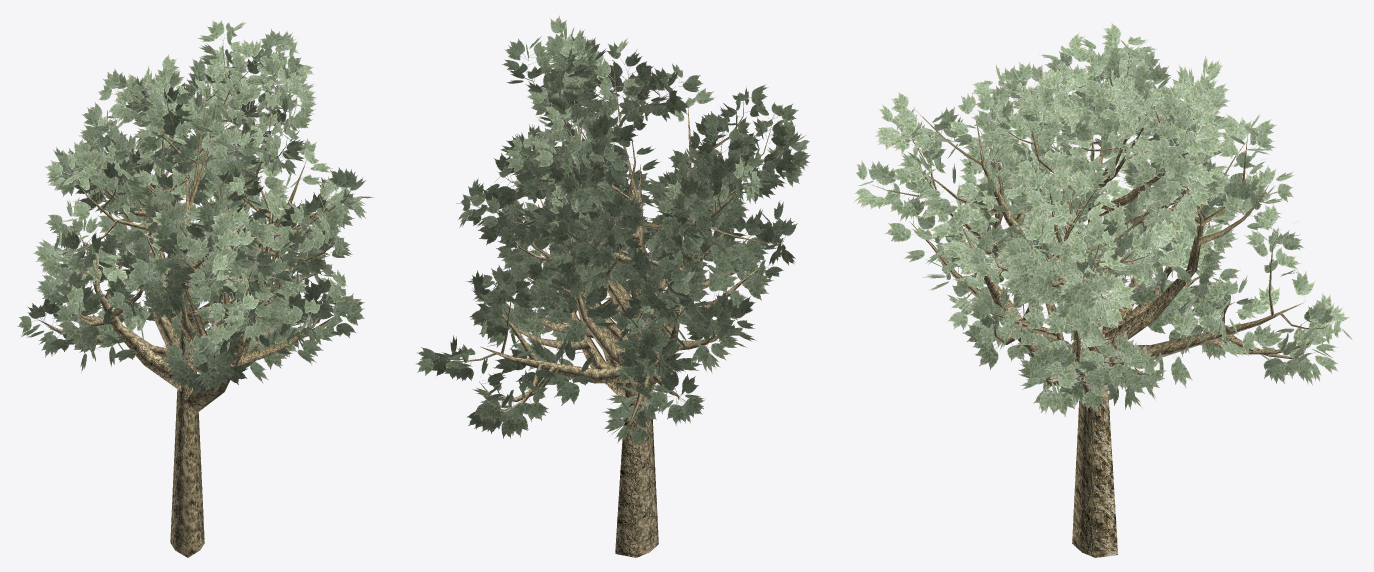
The model's file is MapleTree3.obj.
The picture shows the model from 3 angles, left to right: view 1: azimuth 30°, elevation 25°; view 2: azimuth 150°, elevation 25°; view 3: azimuth 270°, elevation 25°; orthographic projection. The views are drawn at different scales.
Visible parts, largest first — view 1: trunk; view 2: trunk; view 3: trunk.
Part boxes in pixels (x1=…): trunk: x1=17, y1=20, x2=374, y2=557; trunk: x1=415, y1=15, x2=810, y2=557; trunk: x1=853, y1=22, x2=1352, y2=557.
Size of the model in its own units: 13.46 by 20.05 by 16.64.
2 materials, 2 textured.
